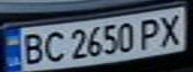0: (115, 19, 139, 53)
2: (66, 25, 87, 61)
5: (100, 21, 124, 56)
6: (84, 24, 106, 58)
B: (15, 30, 48, 66)
C: (39, 29, 69, 64)
P: (133, 16, 166, 51)
X: (154, 10, 190, 47)
